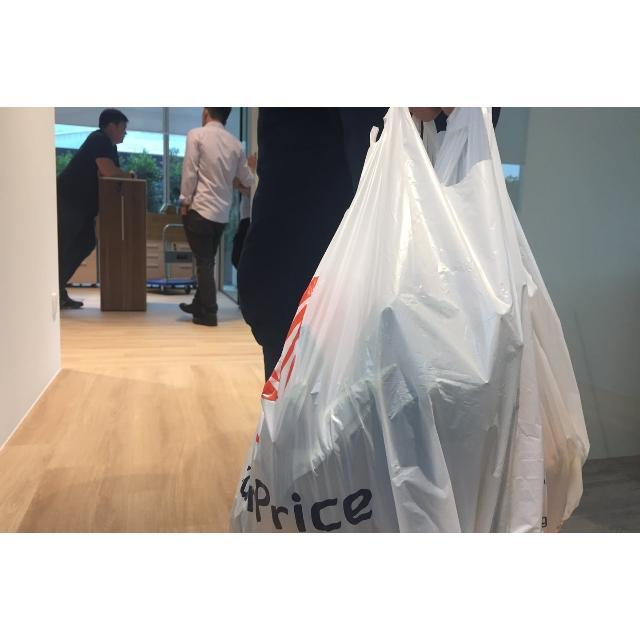plastic: (232, 107, 588, 532)
